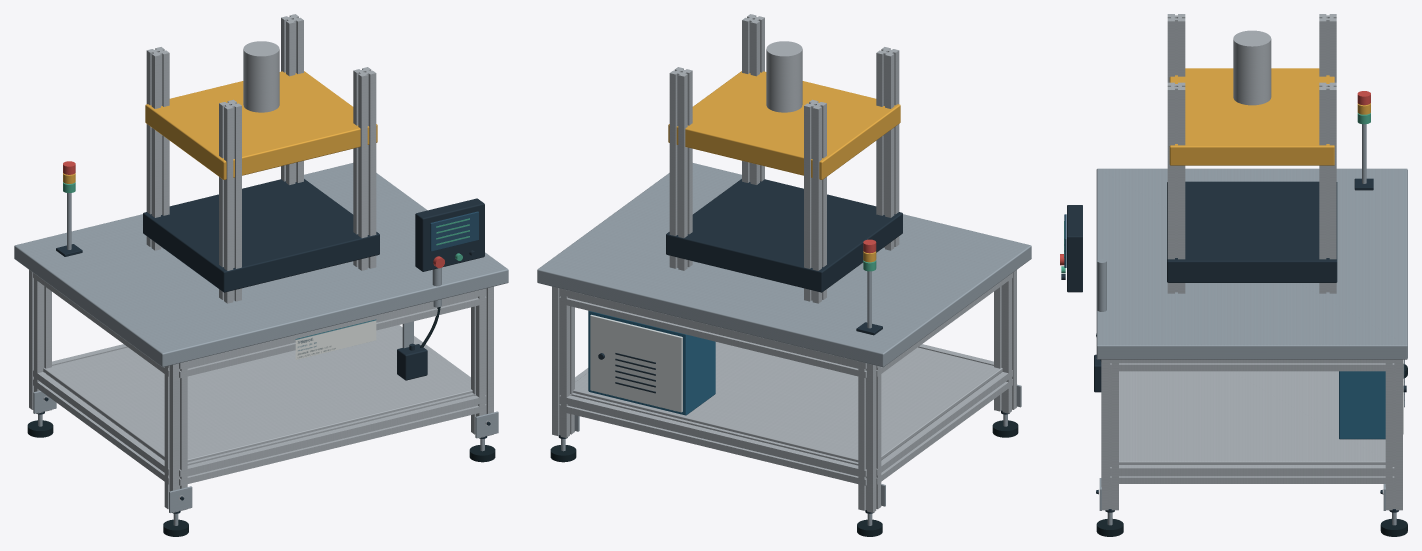
The model's file is vulcanizing-press-cell.glb.
3 renders of one model, left to right at view 1: azimuth 30°, elevation 25°; view 2: azimuth 150°, elevation 25°; view 3: azimuth 270°, elevation 25°, orthographic. The views are drawn at different scales.
Visible parts, largest first — view 1: ClosedMachineBed_40, LowerShelf_41, HeatedBed_75, HotPlaten_76, SlottedExtrusion_34, SlottedExtrusion_74, SlottedExtrusion_72, SlottedExtrusion_35, SlottedExtrusion_71, SlottedExtrusion_11, SlottedExtrusion_36, SlottedExtrusion_27 (+8 smaller); view 2: ClosedMachineBed_40, LowerShelf_41, HeatedBed_75, HotPlaten_76, BackDoor_43, SlottedExtrusion_32, SlottedExtrusion_33, SlottedExtrusion_73, SlottedExtrusion_71, SlottedExtrusion_72, SlottedExtrusion_3, Cabinet_42 (+6 smaller); view 3: ClosedMachineBed_40, LowerShelf_41, HeatedBed_75, HotPlaten_76, SlottedExtrusion_38, SlottedExtrusion_39, SlottedExtrusion_74, Cabinet_42, SlottedExtrusion_73, PressCylinder_77, SlottedExtrusion_27, SlottedExtrusion_19 (+6 smaller).
Boxes of the visible parts, x1,y1,x2,y2 form: ClosedMachineBed_40: (14,163,508,367); LowerShelf_41: (43,326,472,462); HeatedBed_75: (143,179,379,292); HotPlaten_76: (145,71,377,179); SlottedExtrusion_34: (179,393,486,485); SlottedExtrusion_74: (353,67,376,270); SlottedExtrusion_72: (219,99,241,303); SlottedExtrusion_35: (179,288,486,378); SlottedExtrusion_71: (146,47,169,250); SlottedExtrusion_11: (164,361,187,512); SlottedExtrusion_36: (33,370,169,484); SlottedExtrusion_27: (471,286,493,437); ClosedMachineBed_40: (537,163,1031,367); LowerShelf_41: (573,342,1002,462); HeatedBed_75: (666,179,902,292); HotPlaten_76: (668,71,900,179); BackDoor_43: (590,314,682,412); SlottedExtrusion_32: (559,393,866,485); SlottedExtrusion_33: (559,288,866,378); SlottedExtrusion_73: (669,67,692,270); SlottedExtrusion_71: (804,99,826,303); SlottedExtrusion_72: (876,47,899,250); SlottedExtrusion_3: (858,361,881,512); Cabinet_42: (588,310,715,415); ClosedMachineBed_40: (1096,168,1407,359); LowerShelf_41: (1119,371,1385,464); HeatedBed_75: (1167,181,1337,282); HotPlaten_76: (1169,68,1334,165); SlottedExtrusion_38: (1110,465,1394,483); SlottedExtrusion_39: (1110,359,1394,371); SlottedExtrusion_74: (1167,82,1185,293); Cabinet_42: (1339,371,1385,439); SlottedExtrusion_73: (1319,82,1336,293); PressCylinder_77: (1233,30,1271,105); SlottedExtrusion_27: (1101,359,1118,510); SlottedExtrusion_19: (1385,359,1402,510).
Size of the model in its own units: 1.55 by 1.69 by 1.29.
Materials: 11 (3 with a texture image).
